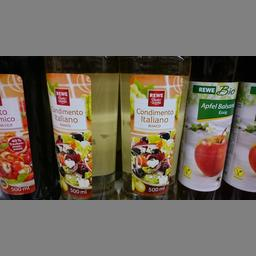vinegar: (114, 56, 184, 198), (46, 64, 118, 197), (176, 58, 237, 196), (0, 60, 50, 198)
